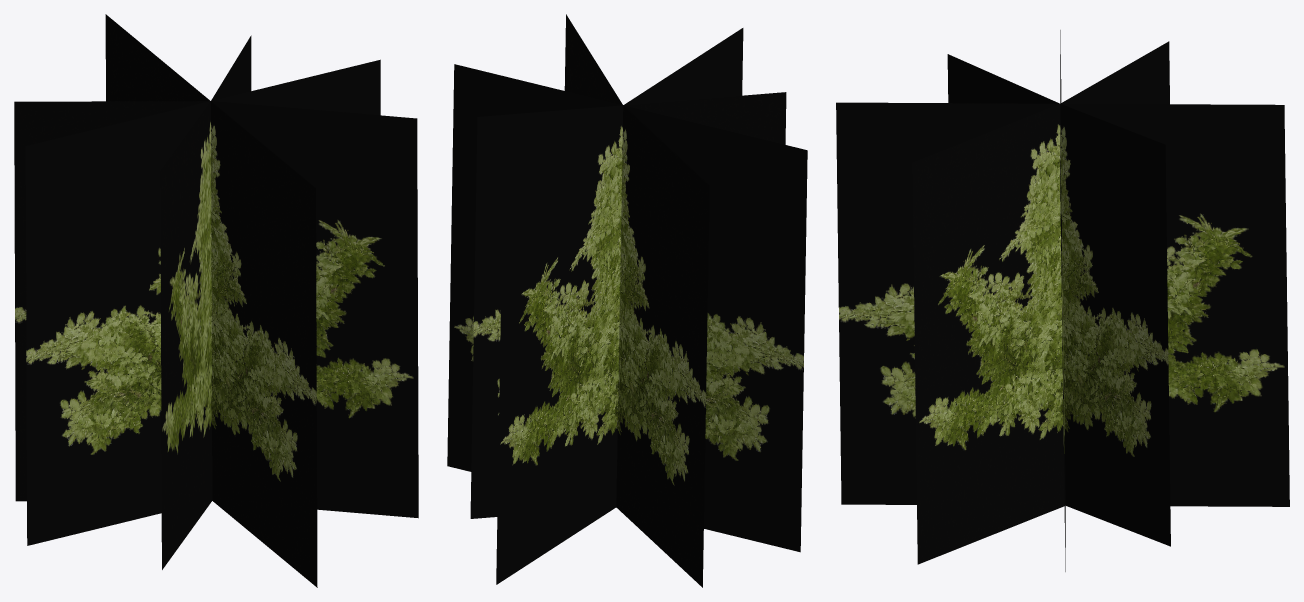
The model's file is tree1_leaves_lod1.fbx.
The picture shows the model from 3 angles, left to right: view 1: azimuth 30°, elevation 25°; view 2: azimuth 150°, elevation 25°; view 3: azimuth 270°, elevation 25°; orthographic projection.
Visible parts, largest first — view 1: Plane; view 2: Plane; view 3: Plane.
Part boxes in pixels (bbox=[...]): Plane: bbox=[14, 14, 418, 587]; Plane: bbox=[447, 14, 807, 587]; Plane: bbox=[836, 30, 1289, 571].
Size of the model in its own units: 150 by 165 by 165.
1 material, 1 textured.
